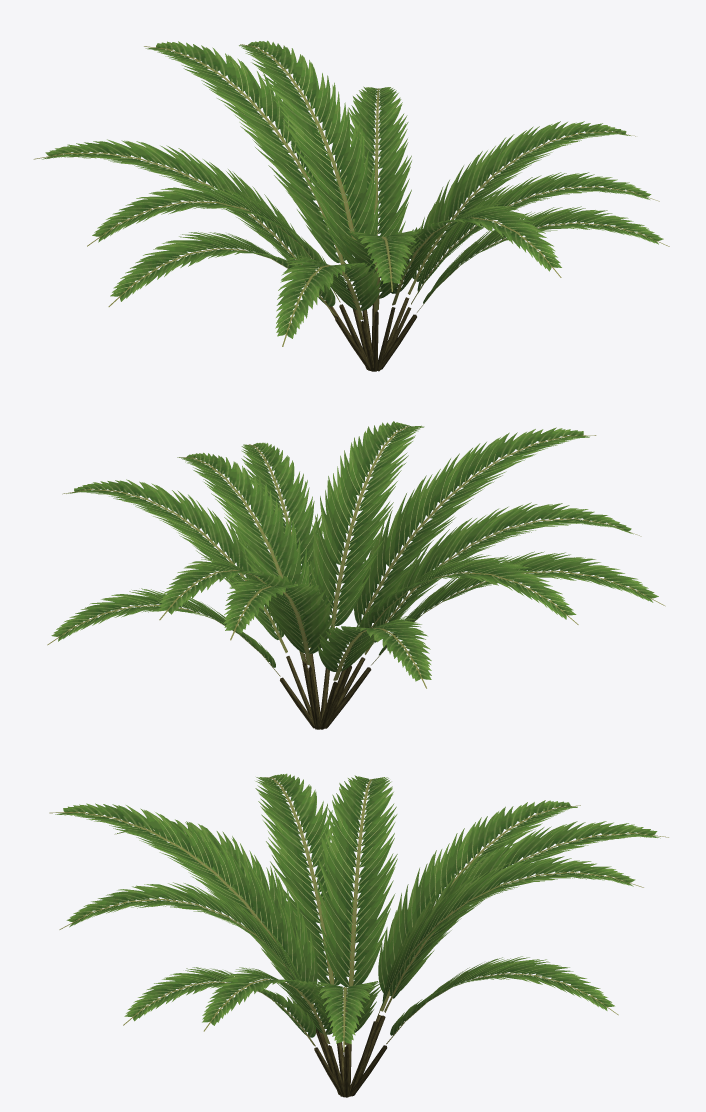
File: golpata_b_lod1.glb
3 views of the same model, one above another, from view 1: azimuth 30°, elevation 25°; view 2: azimuth 150°, elevation 25°; view 3: azimuth 270°, elevation 25° (orthographic).
Parts seen in each view (by area): view 1: leaves, wood; view 2: leaves, wood; view 3: leaves, wood.
Boxes of the visible parts, <box> form: leaves: <box>33,40,669,346</box>; wood: <box>325,284,416,371</box>; leaves: <box>47,421,665,688</box>; wood: <box>280,649,371,729</box>; leaves: <box>49,773,668,1052</box>; wood: <box>314,1015,387,1097</box>.
Bounding box in the file's own units: 14.92 × 5.83 × 14.69.
2 materials, 2 textured.
